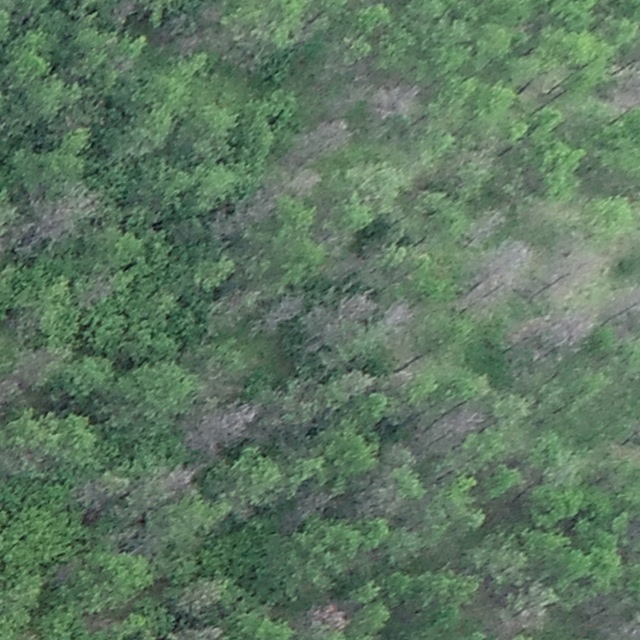unhealthy: (458, 242, 533, 314), (27, 185, 101, 246), (181, 402, 261, 457), (211, 185, 276, 237), (286, 117, 353, 163), (548, 245, 603, 299), (73, 474, 126, 517), (11, 344, 62, 388), (151, 459, 203, 500), (604, 59, 639, 117), (210, 283, 254, 328), (550, 307, 597, 348), (301, 303, 339, 352), (262, 291, 305, 332), (504, 313, 547, 351), (464, 209, 507, 246), (290, 488, 334, 524), (77, 271, 115, 309), (608, 283, 640, 328), (324, 250, 368, 281), (305, 600, 350, 630), (172, 28, 219, 55), (337, 291, 378, 321), (369, 87, 410, 116), (384, 298, 419, 329), (451, 403, 485, 434), (286, 167, 321, 196), (107, 0, 140, 27), (197, 0, 227, 24)
